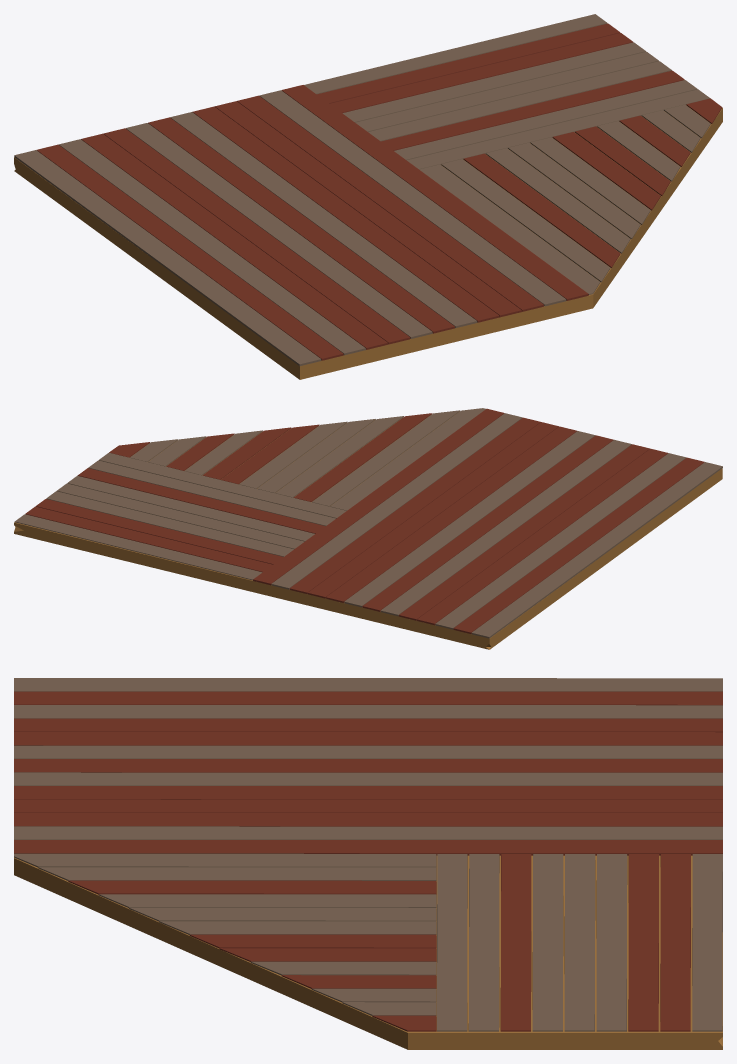
Rendered from Platform_7.fbx.
3 renders of one model, top to bottom at view 1: azimuth 30°, elevation 25°; view 2: azimuth 150°, elevation 25°; view 3: azimuth 270°, elevation 25°, orthographic. The views are drawn at different scales.
Visible parts, largest first — view 1: Platform_7; view 2: Platform_7; view 3: Platform_7.
Boxes of the visible parts, bbox=[...] form: Platform_7: bbox=[14, 14, 722, 379]; Platform_7: bbox=[14, 408, 722, 649]; Platform_7: bbox=[14, 678, 722, 1049].
Bounding box in the file's own units: 1084 × 921 × 27.82.
